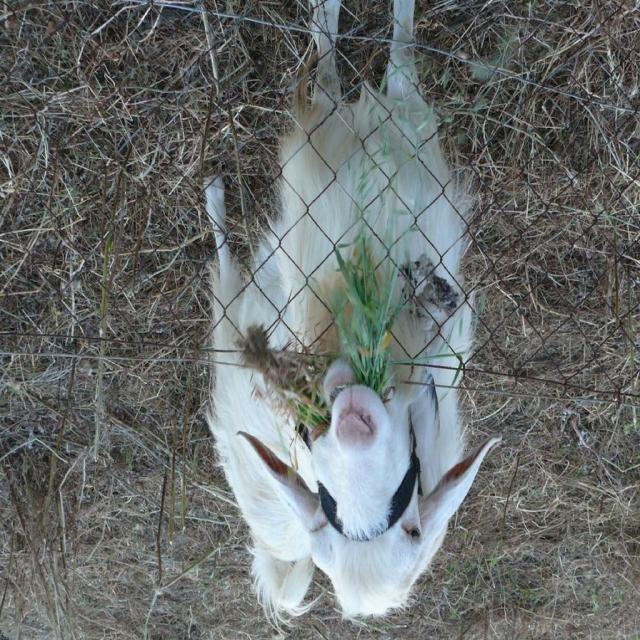Goat: (203, 2, 503, 627)
